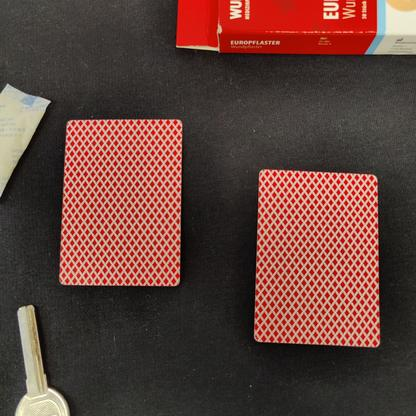card: (243, 163, 386, 357), (53, 110, 190, 295)
